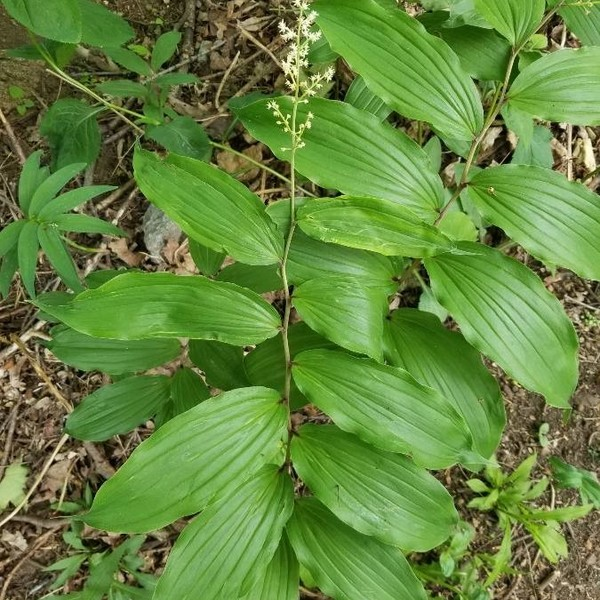obstacle: (83, 15, 545, 580)
